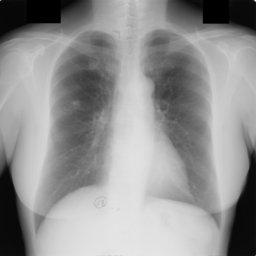left lobe: (143, 30, 218, 212)
right lobe: (37, 33, 118, 212)
